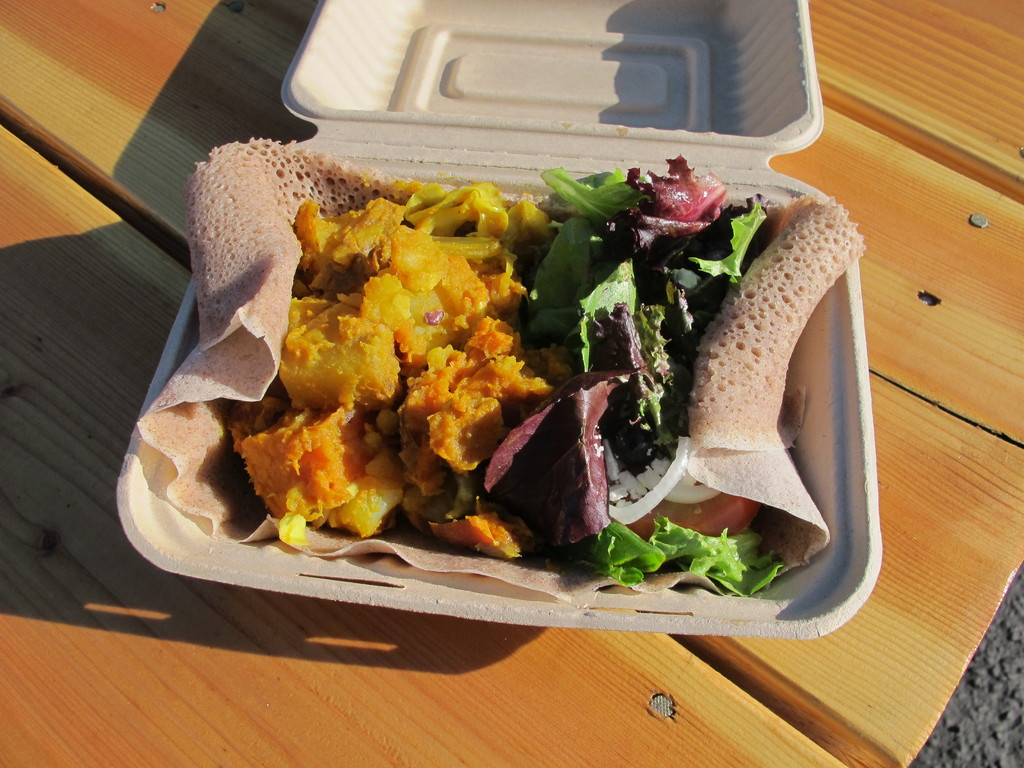taco: (140, 129, 941, 624)
